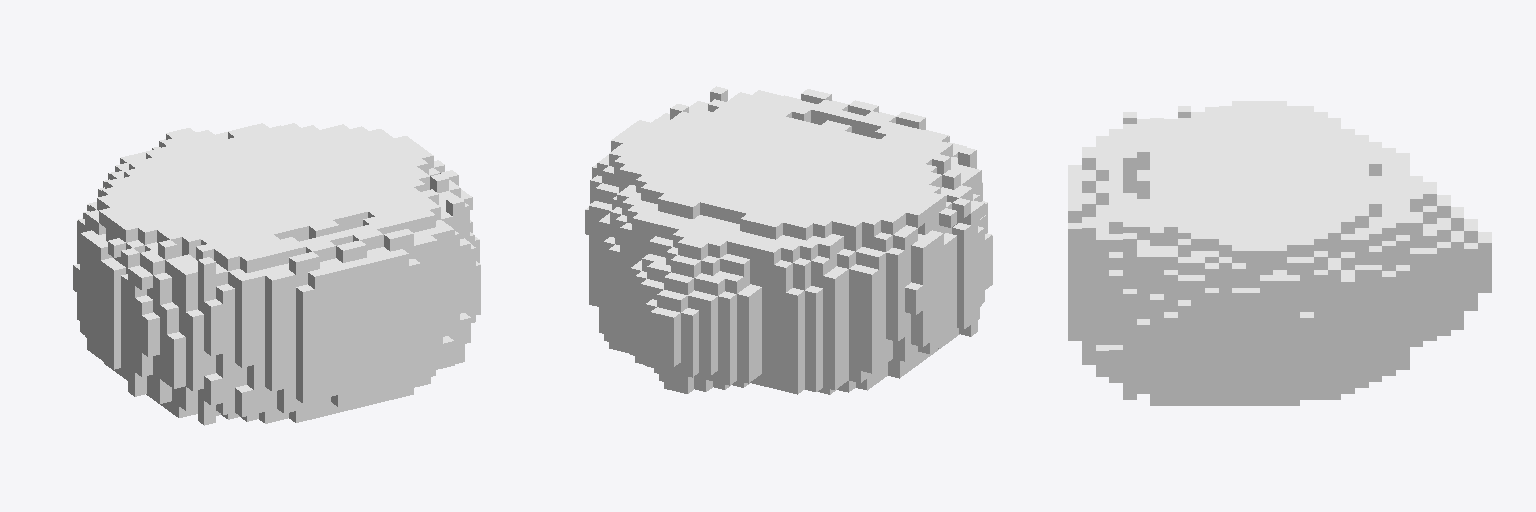
The model's file is FrieBall.obj.
3 views of the same model, side by side, from view 1: azimuth 30°, elevation 25°; view 2: azimuth 150°, elevation 25°; view 3: azimuth 270°, elevation 25° (orthographic).
Parts seen in each view (by area): view 1: object 1; view 2: object 1; view 3: object 1.
Part boxes in pixels (left/top/right/bottom): object 1: left=73, top=123, right=480, bottom=425; object 1: left=585, top=86, right=992, bottom=394; object 1: left=1068, top=101, right=1491, bottom=405.
Size of the model in its own units: 2.8 by 1.3 by 3.1.